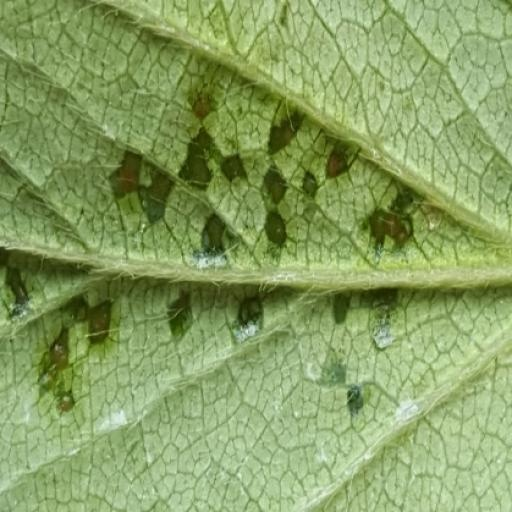Angular Leafspot: (52, 89, 511, 459)
